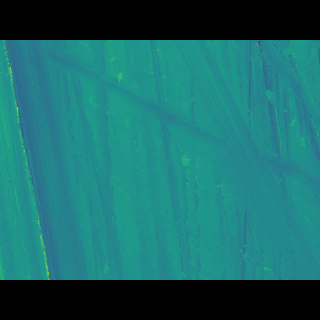Loch: (0, 71, 319, 249)
